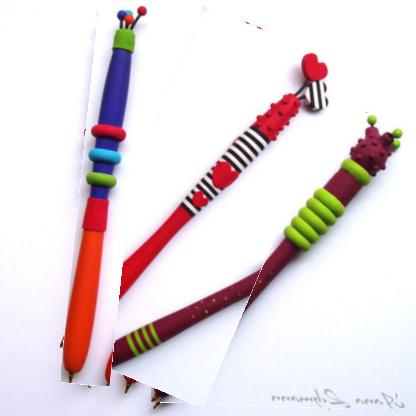Pen: (92, 13, 314, 400), (152, 108, 401, 408), (69, 1, 139, 387)
